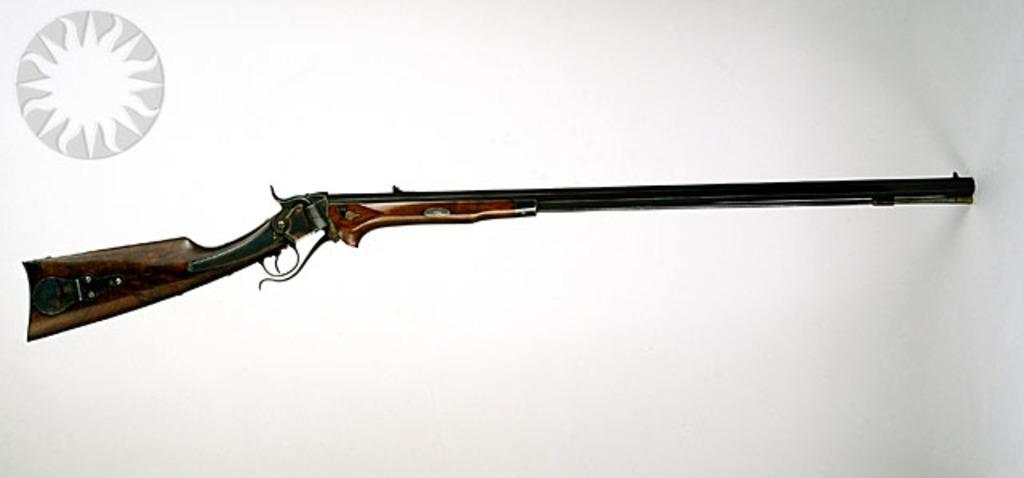Shotgun: (16, 179, 976, 345)
